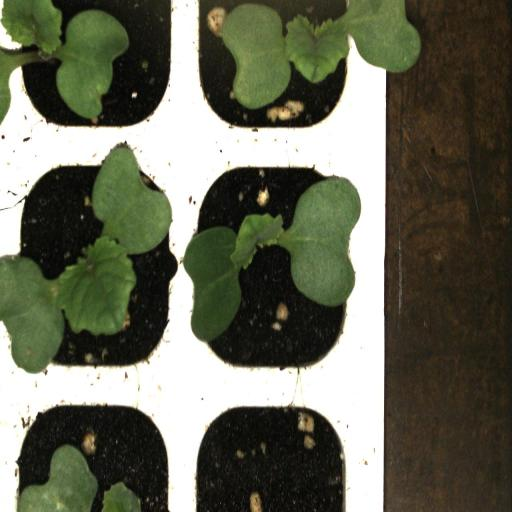Folha: (16, 444, 141, 512)
Germinacao: (182, 144, 366, 384), (5, 142, 182, 385), (192, 0, 366, 141), (9, 0, 184, 132)
